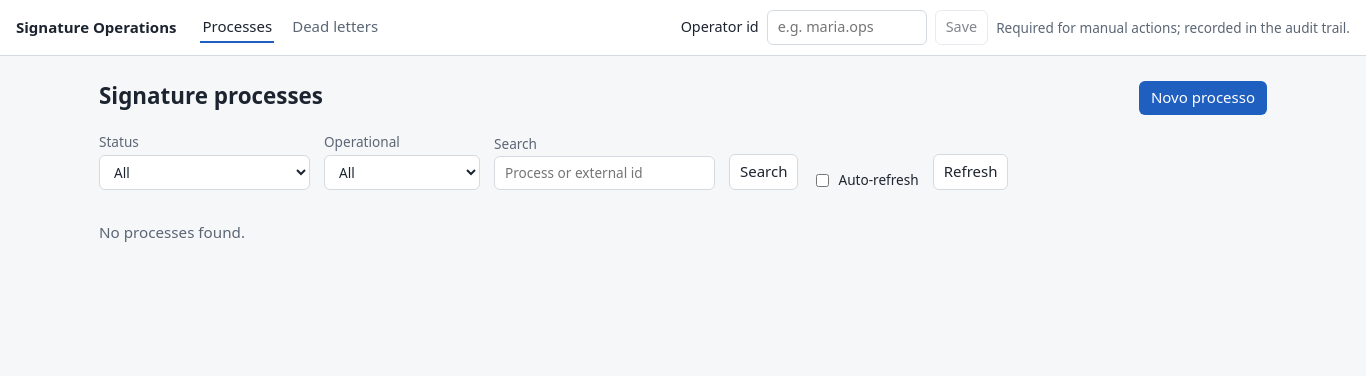
Scenario: dead letters page › is reachable from the main navigation
What coordinates should you click on to do the following:
click the link "Dead letters"
I would click on:
 (335, 28)
Its box is [290, 12, 380, 43].
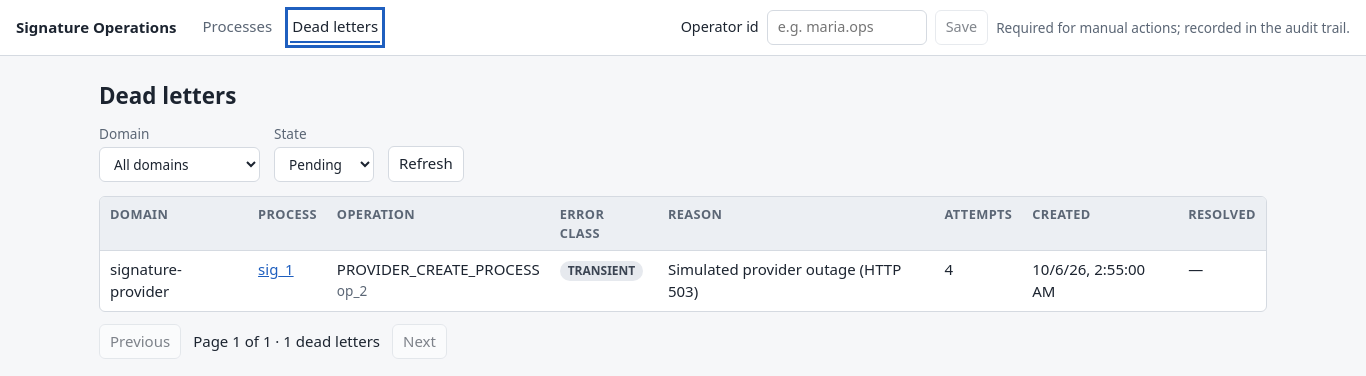
Result: the heading "Dead letters" is shown at [99, 80, 236, 111]
